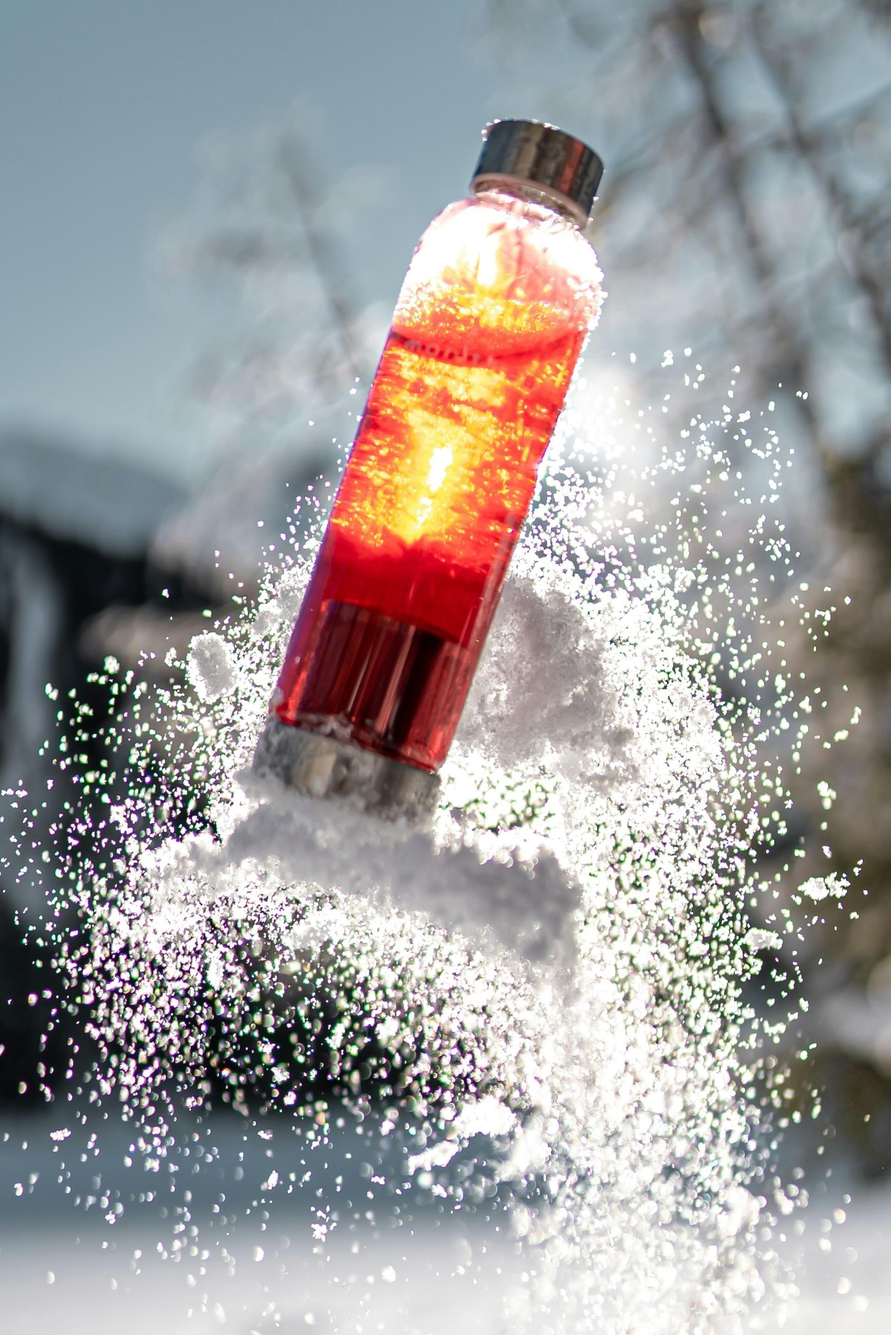Bottle-Detection: (211, 74, 727, 866)
